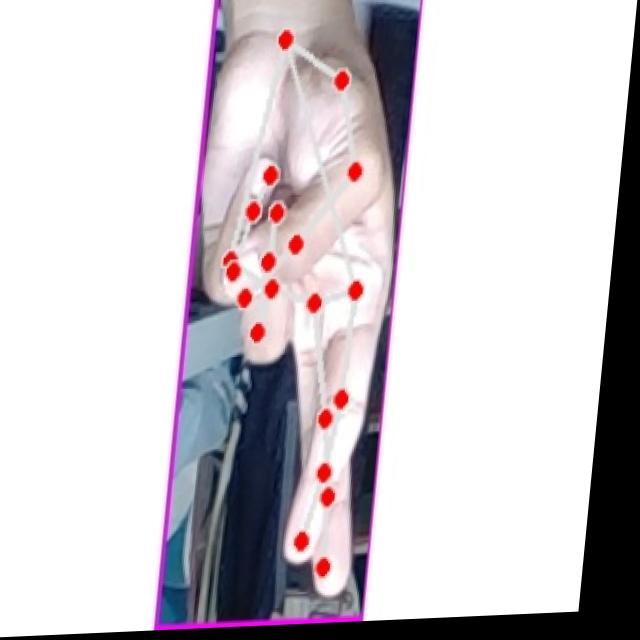R: (176, 13, 409, 614)
